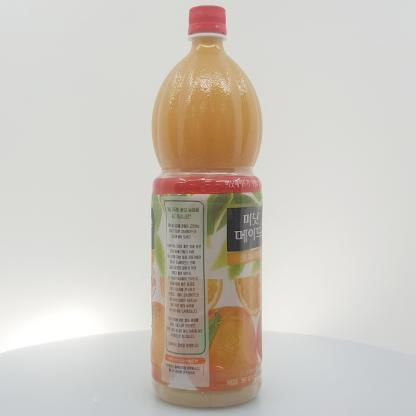------------1-5L: (150, 5, 263, 408)
